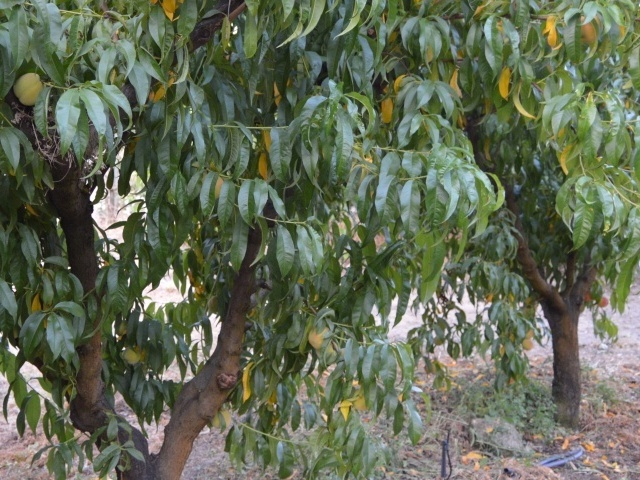peach: (10, 67, 47, 109), (306, 322, 333, 352), (121, 344, 143, 368)
